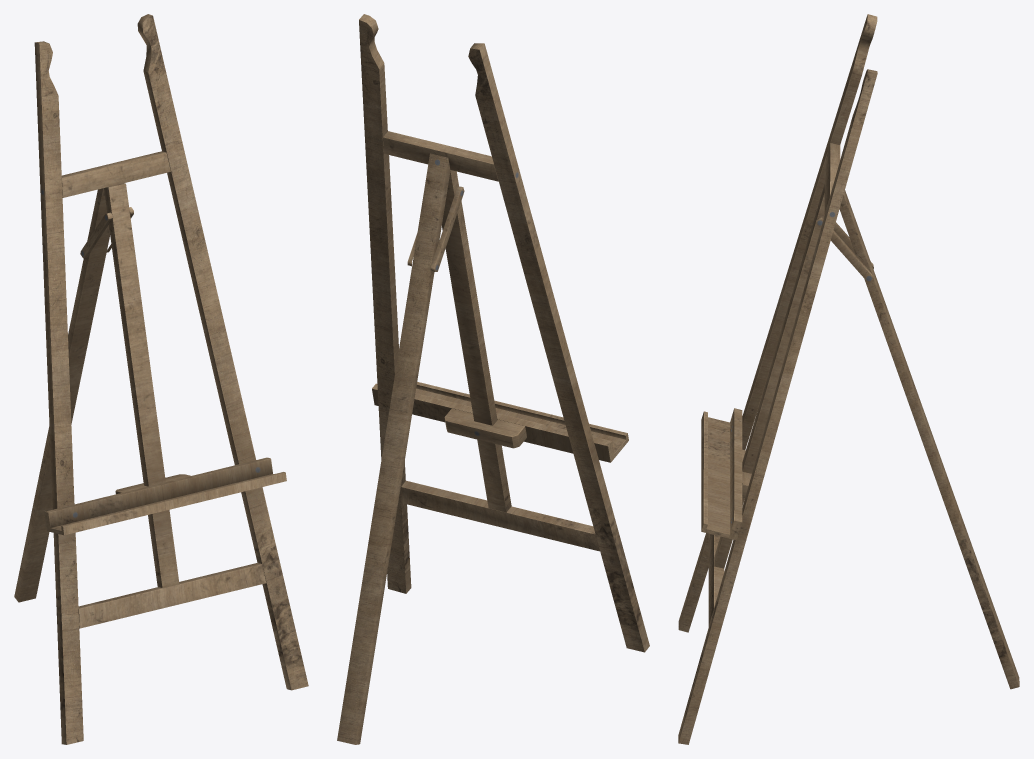
File: SM_Easle_Easle.glb
3 renders of one model, left to right at view 1: azimuth 30°, elevation 25°; view 2: azimuth 150°, elevation 25°; view 3: azimuth 270°, elevation 25°, orthographic. The views are drawn at different scales.
Visible parts, largest first — view 1: SM_Easle_Easle; view 2: SM_Easle_Easle; view 3: SM_Easle_Easle.
Boxes of the visible parts, x1,y1,x2,y2 form: SM_Easle_Easle: (14, 14, 308, 744); SM_Easle_Easle: (337, 14, 649, 744); SM_Easle_Easle: (678, 14, 1019, 744).
Bounding box in the file's own units: 0.8584 × 2.11 × 1.01.
1 material, 1 textured.
